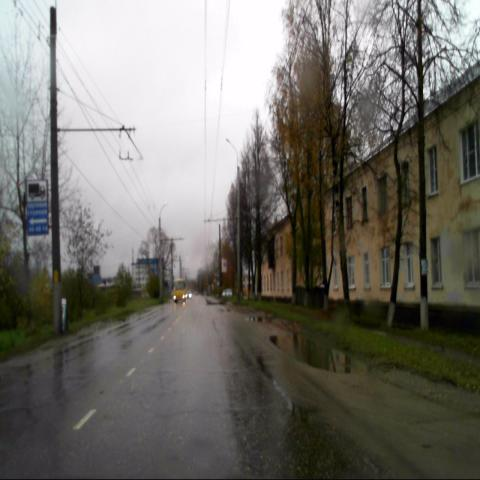8_4_1: (26, 178, 48, 202)
